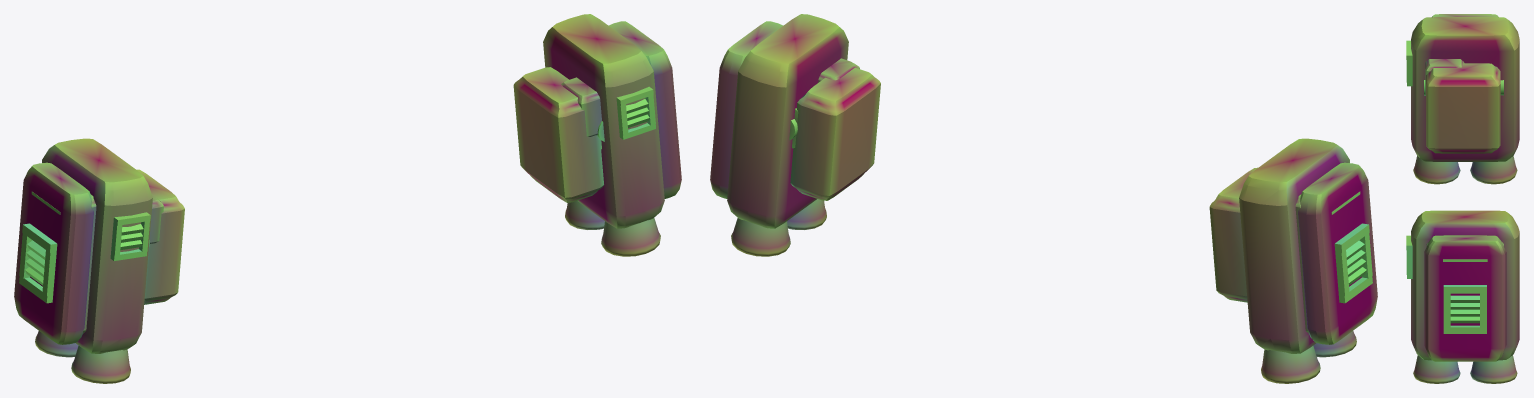
File: llm_gen_leg_thrusters_110_224624.glb
3 renders of one model, left to right at view 1: azimuth 30°, elevation 25°; view 2: azimuth 150°, elevation 25°; view 3: azimuth 270°, elevation 25°, orthographic. The views are drawn at different scales.
Visible parts, largest first — view 1: greave_pylon_0_adapter_dark_r, greave_pylon_0_adapter_dark_l, lateral_binder_shroud_2_cobalt_anodized_l, adapter_calf_clamp_r, lateral_binder_shroud_2_cobalt_anodized_r, adapter_calf_clamp_l, ankle_vector_bell_b_7_vernier_bell_vernier_l, ankle_vector_bell_b_7_vernier_bell_vernier_r, adapter_sub_binder_side_vent_3_dark_l, adapter_sub_greave_intake_grille_5_dark_l, adapter_leg_knee_mount_dark_8_adapter_dark_r, adapter_sub_greave_intake_grille_5_dark_r (+3 smaller); view 2: greave_pylon_0_adapter_dark_r, greave_pylon_0_adapter_dark_l, lateral_binder_shroud_2_cobalt_anodized_l, adapter_calf_clamp_r, lateral_binder_shroud_2_cobalt_anodized_r, adapter_calf_clamp_l, ankle_vector_bell_a_6_vernier_bell_vernier_l, ankle_vector_bell_a_6_vernier_bell_vernier_r, adapter_sub_binder_side_vent_3_dark_l, ankle_vector_bell_b_7_vernier_bell_vernier_r, binder_side_vent_3_gold_l, ankle_vector_bell_b_7_vernier_bell_vernier_l; view 3: greave_pylon_0_adapter_dark_l, lateral_binder_shroud_2_cobalt_anodized_r, adapter_calf_clamp_l, greave_pylon_0_adapter_dark_r, adapter_sub_binder_side_vent_3_dark_r, ankle_vector_bell_a_6_vernier_bell_vernier_r, ankle_vector_bell_b_7_vernier_bell_vernier_r, ankle_vector_bell_a_6_vernier_bell_vernier_l, ankle_vector_bell_b_7_vernier_bell_vernier_l, binder_side_vent_3_gold_r, adapter_leg_knee_mount_dark_8_adapter_dark_l, adapter_sub_greave_intake_grille_5_dark_l (+3 smaller).
Boxes of the visible parts, x1,y1,x2,y2 form: greave_pylon_0_adapter_dark_r: (543, 14, 664, 228); greave_pylon_0_adapter_dark_l: (42, 138, 152, 353); lateral_binder_shroud_2_cobalt_anodized_l: (14, 162, 93, 344); adapter_calf_clamp_r: (513, 67, 603, 202); lateral_binder_shroud_2_cobalt_anodized_r: (608, 21, 681, 198); adapter_calf_clamp_l: (136, 169, 184, 304); ankle_vector_bell_b_7_vernier_bell_vernier_l: (71, 345, 130, 383); ankle_vector_bell_b_7_vernier_bell_vernier_r: (601, 218, 660, 256); adapter_sub_binder_side_vent_3_dark_l: (19, 223, 57, 303); adapter_sub_greave_intake_grille_5_dark_l: (110, 212, 150, 260); adapter_leg_knee_mount_dark_8_adapter_dark_r: (561, 77, 601, 136); adapter_sub_greave_intake_grille_5_dark_r: (616, 86, 655, 139); greave_pylon_0_adapter_dark_r: (727, 14, 848, 228); greave_pylon_0_adapter_dark_l: (1239, 138, 1349, 353); lateral_binder_shroud_2_cobalt_anodized_l: (1298, 162, 1377, 344); adapter_calf_clamp_r: (790, 67, 880, 200); lateral_binder_shroud_2_cobalt_anodized_r: (710, 21, 783, 198); adapter_calf_clamp_l: (1209, 167, 1257, 302); ankle_vector_bell_a_6_vernier_bell_vernier_l: (1261, 345, 1320, 383); ankle_vector_bell_a_6_vernier_bell_vernier_r: (731, 218, 790, 256); adapter_sub_binder_side_vent_3_dark_l: (1334, 223, 1372, 303); ankle_vector_bell_b_7_vernier_bell_vernier_r: (787, 199, 826, 229); binder_side_vent_3_gold_l: (1346, 240, 1366, 285); ankle_vector_bell_b_7_vernier_bell_vernier_l: (1313, 331, 1356, 357); greave_pylon_0_adapter_dark_l: (1411, 17, 1519, 161); lateral_binder_shroud_2_cobalt_anodized_r: (1424, 235, 1506, 361); adapter_calf_clamp_l: (1426, 63, 1500, 153); greave_pylon_0_adapter_dark_r: (1411, 210, 1519, 360); adapter_sub_binder_side_vent_3_dark_r: (1443, 285, 1486, 333); ankle_vector_bell_a_6_vernier_bell_vernier_r: (1470, 355, 1517, 383); ankle_vector_bell_b_7_vernier_bell_vernier_r: (1413, 355, 1460, 383); ankle_vector_bell_a_6_vernier_bell_vernier_l: (1470, 156, 1517, 184); ankle_vector_bell_b_7_vernier_bell_vernier_l: (1413, 156, 1460, 184); binder_side_vent_3_gold_r: (1450, 295, 1479, 323); adapter_leg_knee_mount_dark_8_adapter_dark_l: (1425, 59, 1464, 94); adapter_sub_greave_intake_grille_5_dark_l: (1406, 40, 1412, 86).
Bounding box in the file's own units: 84.2 × 25.43 × 16.74.
